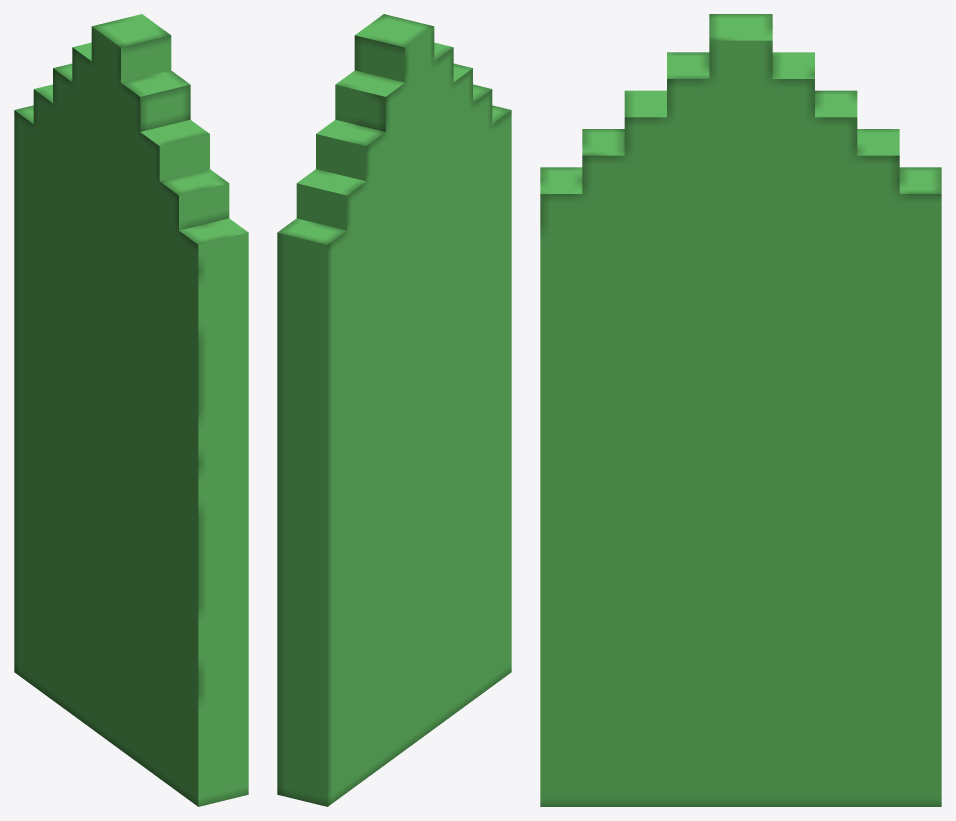
The model's file is portal_green.obj.
The picture shows the model from 3 angles, left to right: view 1: azimuth 30°, elevation 25°; view 2: azimuth 150°, elevation 25°; view 3: azimuth 270°, elevation 25°; orthographic projection. The views are drawn at different scales.
Parts seen in each view (by area): view 1: portal_green; view 2: portal_green; view 3: portal_green.
Part boxes in pixels (x1,y1,x2,y2): portal_green: [14, 14, 248, 806]; portal_green: [277, 14, 511, 806]; portal_green: [540, 14, 941, 806].
Size of the model in its own units: 0.3 by 4 by 1.9.
Materials: 1 (1 with a texture image).
